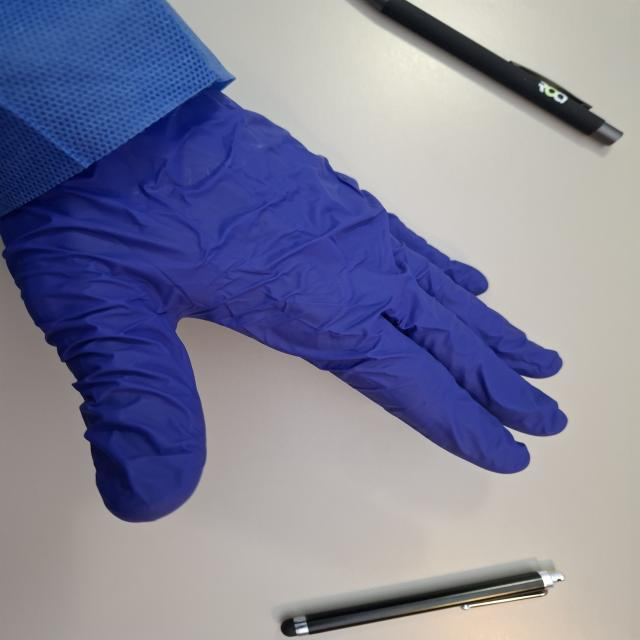glove_on: (0, 80, 573, 528)
